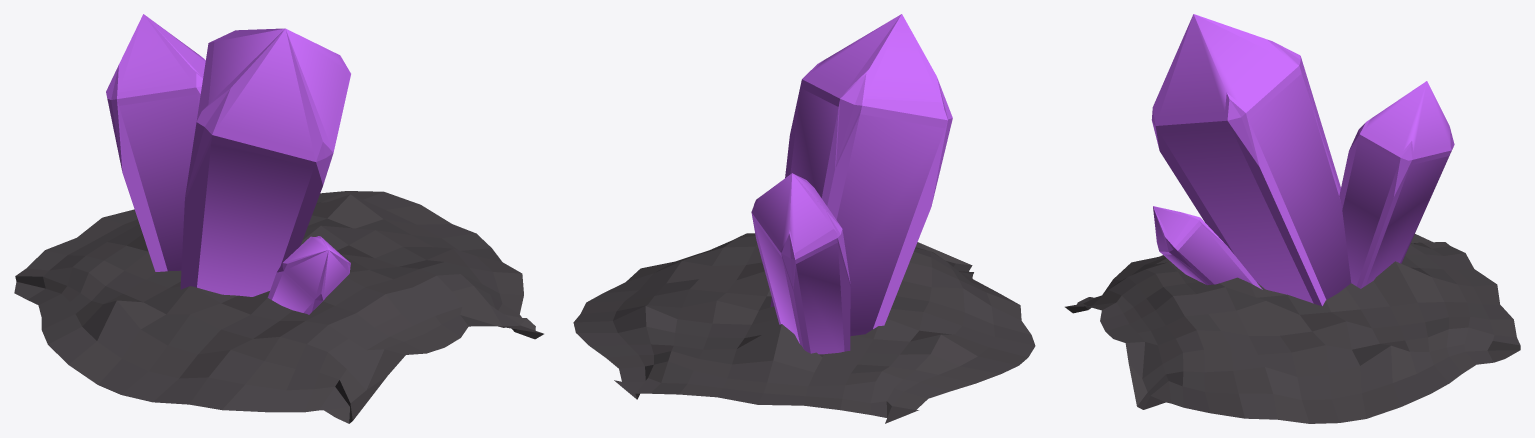
The model's file is cyrst.gltf.
3 views of the same model, side by side, from view 1: azimuth 30°, elevation 25°; view 2: azimuth 150°, elevation 25°; view 3: azimuth 270°, elevation 25° (orthographic). The views are drawn at different scales.
Visible parts, largest first — view 1: Plane; view 2: Plane; view 3: Plane.
Boxes of the visible parts, x1,y1,x2,y2 form: Plane: [14, 14, 543, 423]; Plane: [573, 14, 1035, 423]; Plane: [1065, 14, 1520, 423].
Size of the model in its own units: 1.56 by 1.14 by 1.56.
